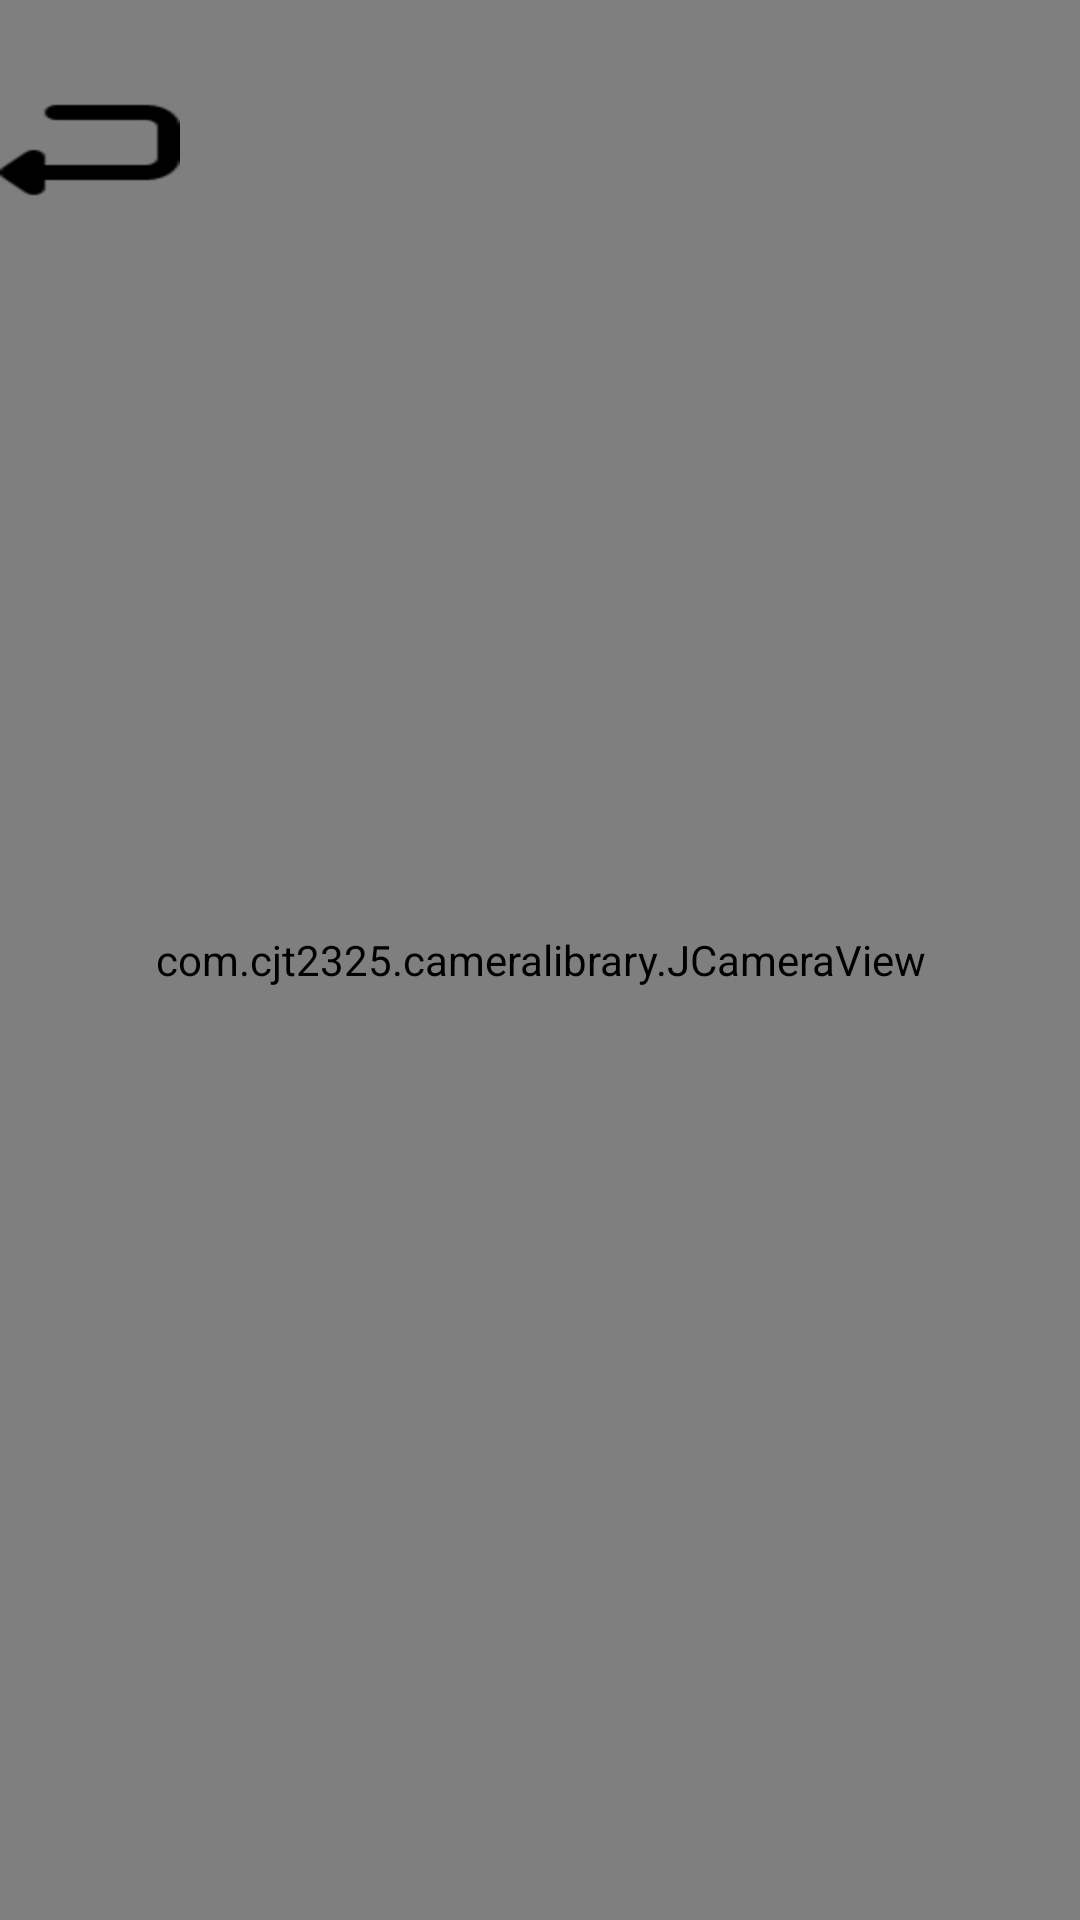

Icons on this 1080 × 1920 Android screen, each with its box as {"x1": x1, "y1": y1, "x2": x2, "y2": y2}:
icolback: {"x1": 0, "y1": 104, "x2": 180, "y2": 196}
